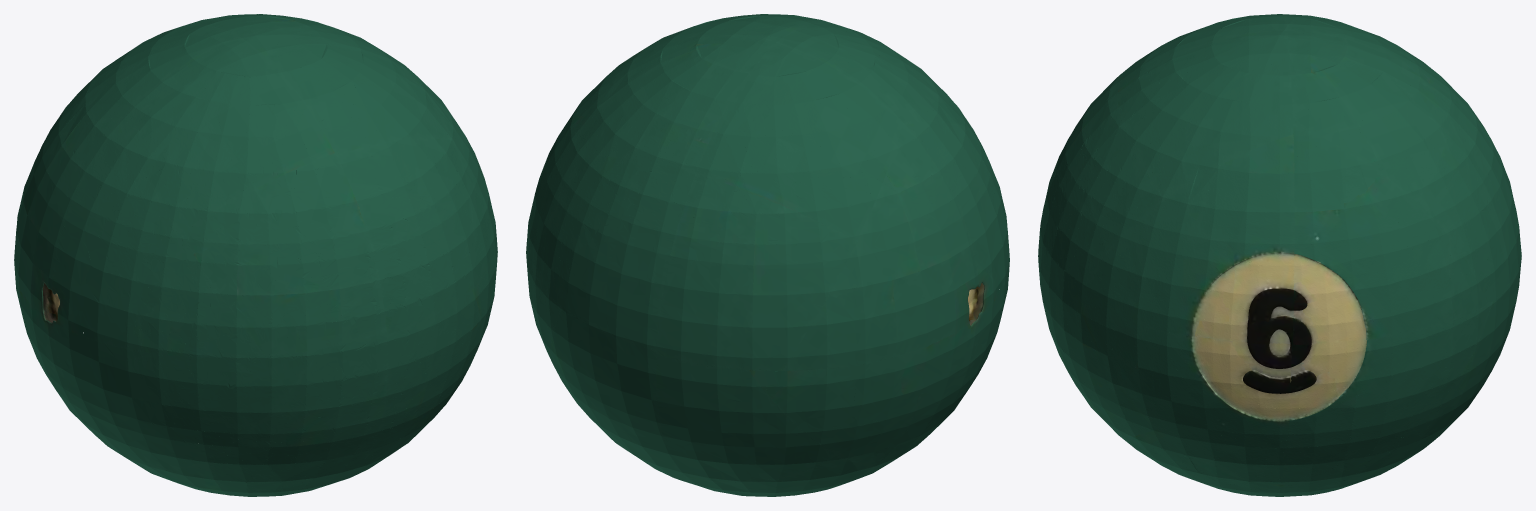
Rendered from biagr.glb.
3 renders of one model, left to right at view 1: azimuth 30°, elevation 25°; view 2: azimuth 150°, elevation 25°; view 3: azimuth 270°, elevation 25°, orthographic.
Parts seen in each view (by area): view 1: tripo_node_f3072871-1538-46fe-9bdc-1baed1a3477f; view 2: tripo_node_f3072871-1538-46fe-9bdc-1baed1a3477f; view 3: tripo_node_f3072871-1538-46fe-9bdc-1baed1a3477f.
Boxes of the visible parts, box(x1,y1,x2,y2) form: tripo_node_f3072871-1538-46fe-9bdc-1baed1a3477f: box(14, 14, 497, 496); tripo_node_f3072871-1538-46fe-9bdc-1baed1a3477f: box(526, 14, 1009, 496); tripo_node_f3072871-1538-46fe-9bdc-1baed1a3477f: box(1038, 14, 1521, 496).
Size of the model in its own units: 0.9768 by 0.9808 by 0.9784.
Materials: 1 (1 with a texture image).
